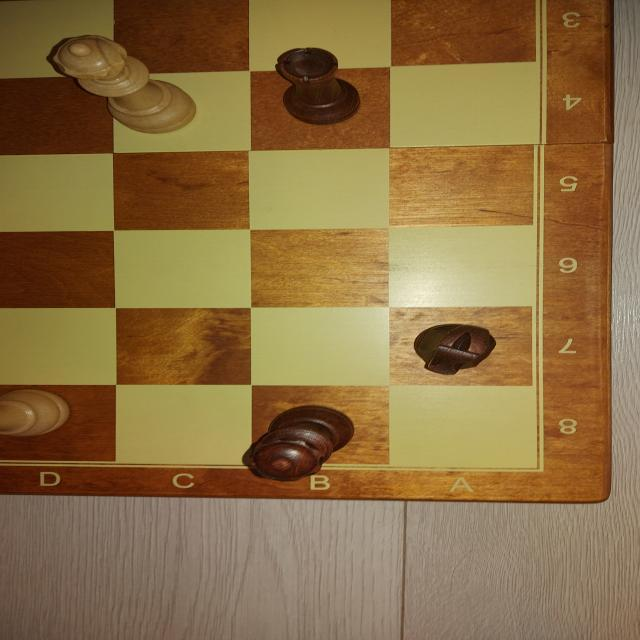chess-table-corners: (488, 438, 579, 494)
